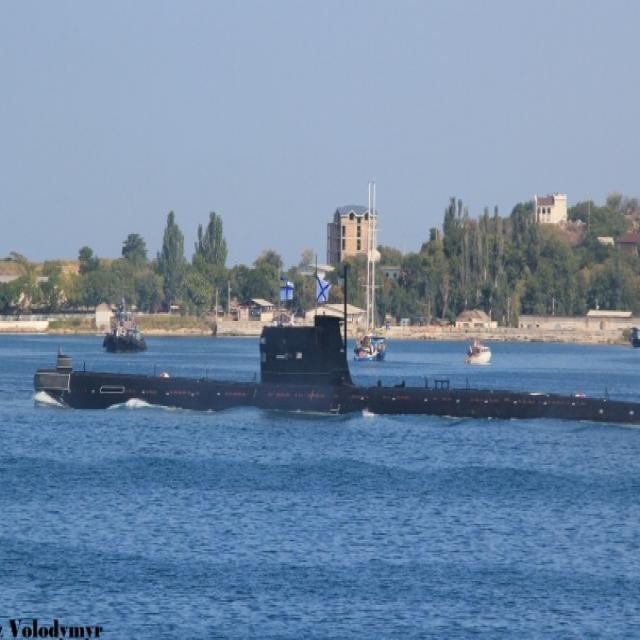submarine: (35, 321, 640, 424)
